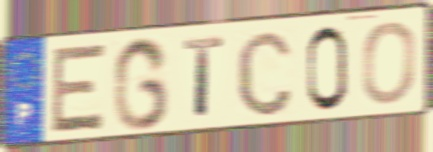0: (305, 22, 350, 113)
C: (235, 26, 295, 119)
E: (49, 41, 109, 137)
G: (110, 34, 170, 133)
O: (359, 18, 418, 106)
T: (181, 34, 226, 122)
